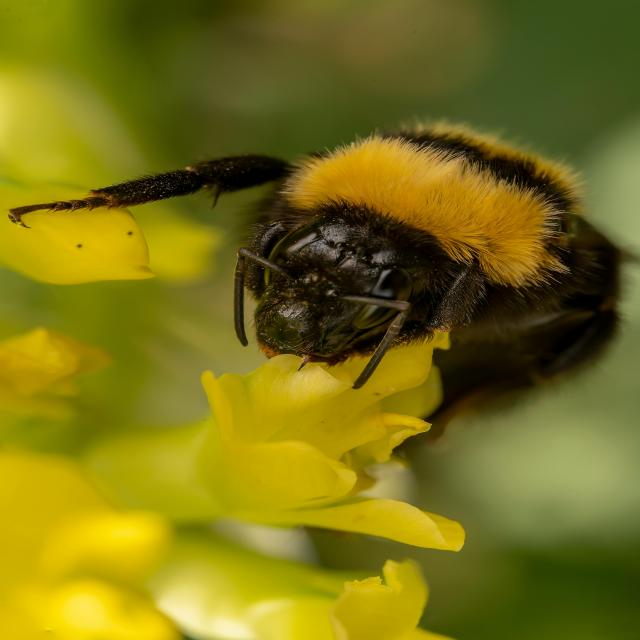bee: (8, 116, 640, 441)
